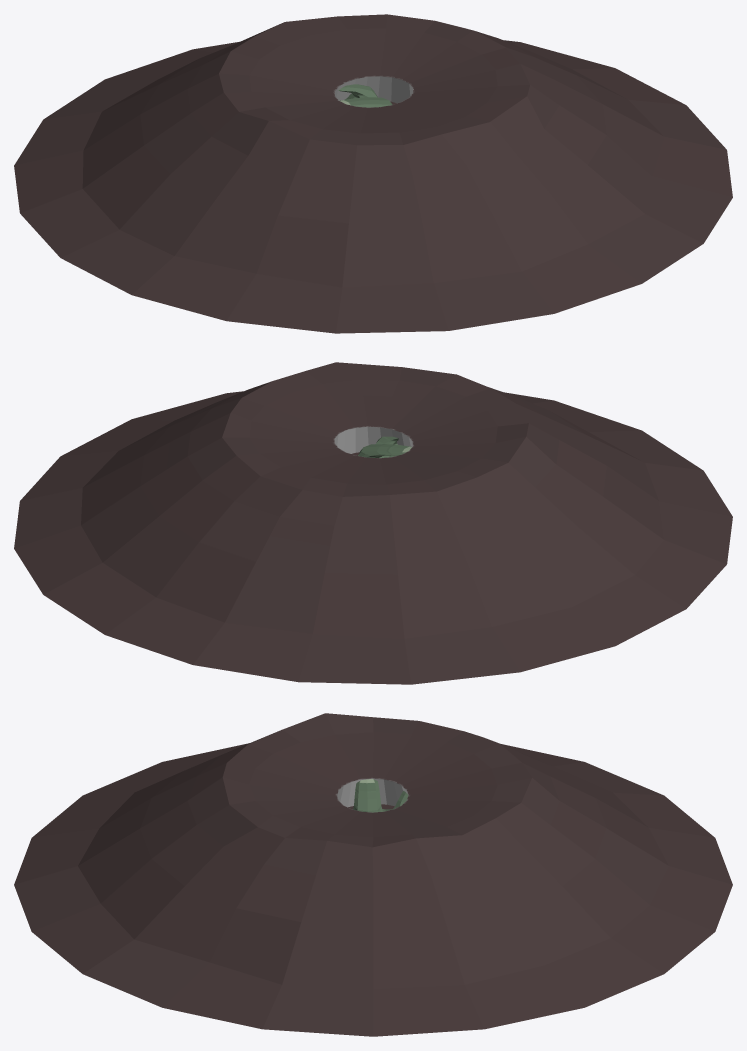
Rendered from HandFromGroundNoDirt_animated.fbx.
3 renders of one model, top to bottom at view 1: azimuth 30°, elevation 25°; view 2: azimuth 150°, elevation 25°; view 3: azimuth 270°, elevation 25°, orthographic.
Visible parts, largest first — view 1: Hand out of ground_NoDirt_d, Hand out of ground_NoDirt_h; view 2: Hand out of ground_NoDirt_d, Hand out of ground_NoDirt_h; view 3: Hand out of ground_NoDirt_d, Hand out of ground_NoDirt_h.
Boxes of the visible parts, bbox=[...] form: Hand out of ground_NoDirt_d: bbox=[14, 14, 732, 333]; Hand out of ground_NoDirt_h: bbox=[338, 84, 392, 107]; Hand out of ground_NoDirt_d: bbox=[14, 362, 732, 684]; Hand out of ground_NoDirt_h: bbox=[358, 436, 411, 457]; Hand out of ground_NoDirt_d: bbox=[14, 713, 732, 1036]; Hand out of ground_NoDirt_h: bbox=[353, 779, 408, 812].
Bounding box in the file's own units: 299 × 50.06 × 299.
